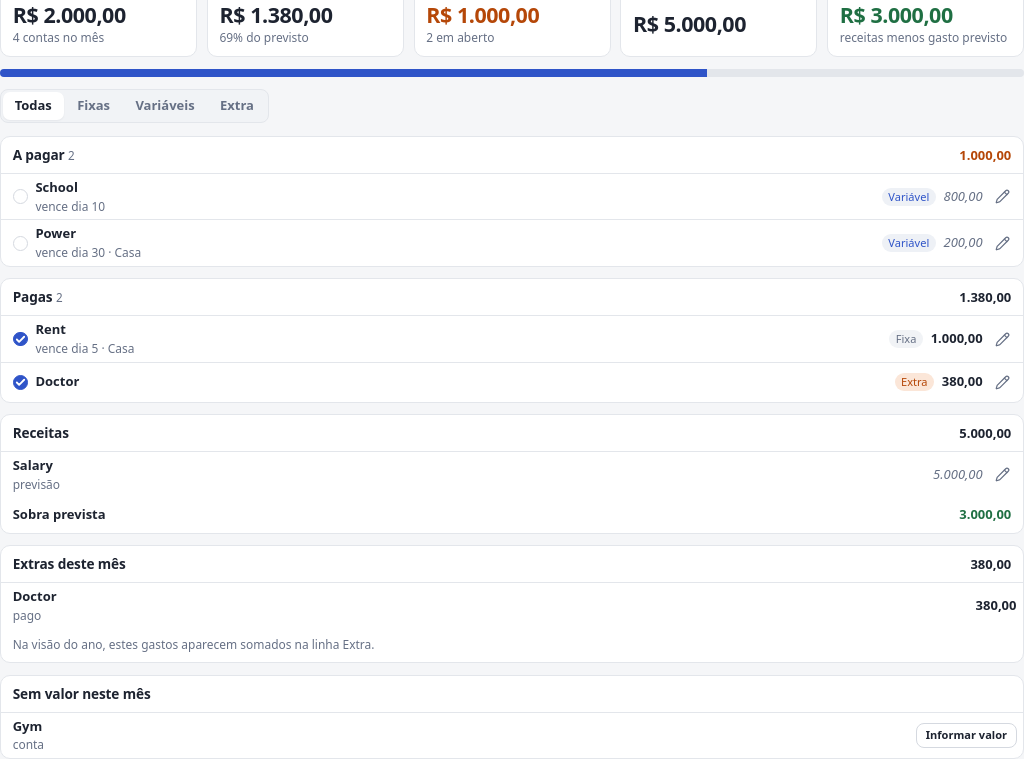
Test: MonthPage › lists what has no value in the month, so one can be given
(page scrolled)
Expected: the element "A pagar" is shown, x1=0 y1=136 x2=1023 y2=267
Click the button with aria-label "Informar valor de Gym" at (966, 736), box x1=916 y1=723 x2=1016 y2=748
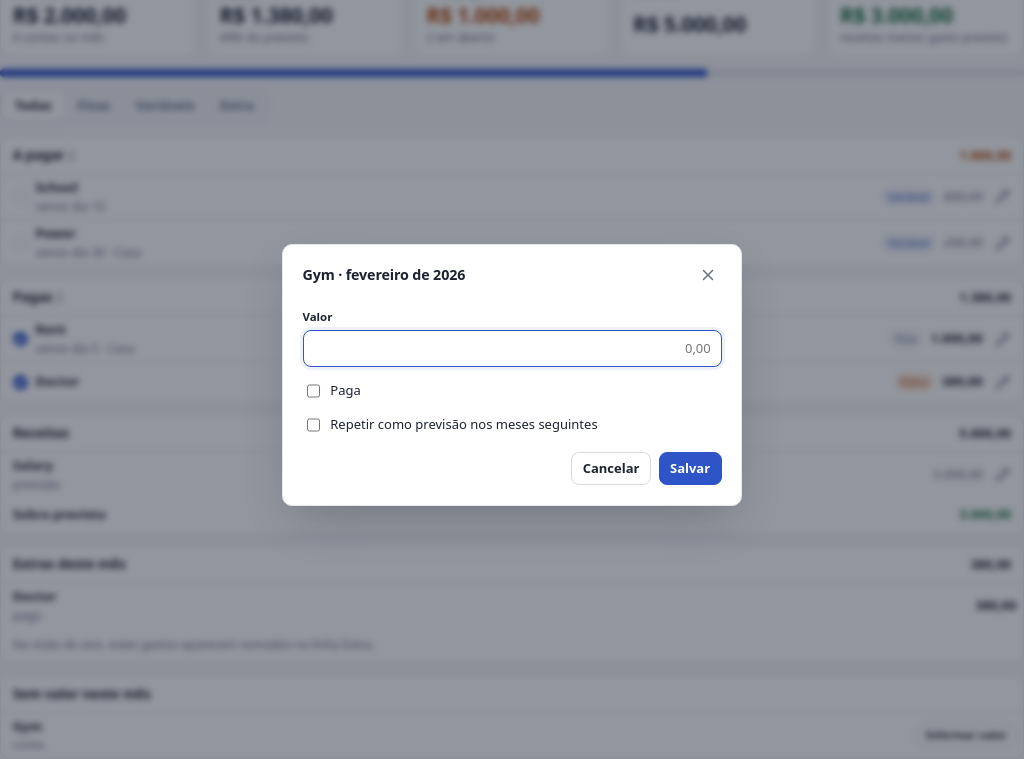
Result: the dialog "Gym · fevereiro de 2026" is shown at x1=282 y1=244 x2=742 y2=506
